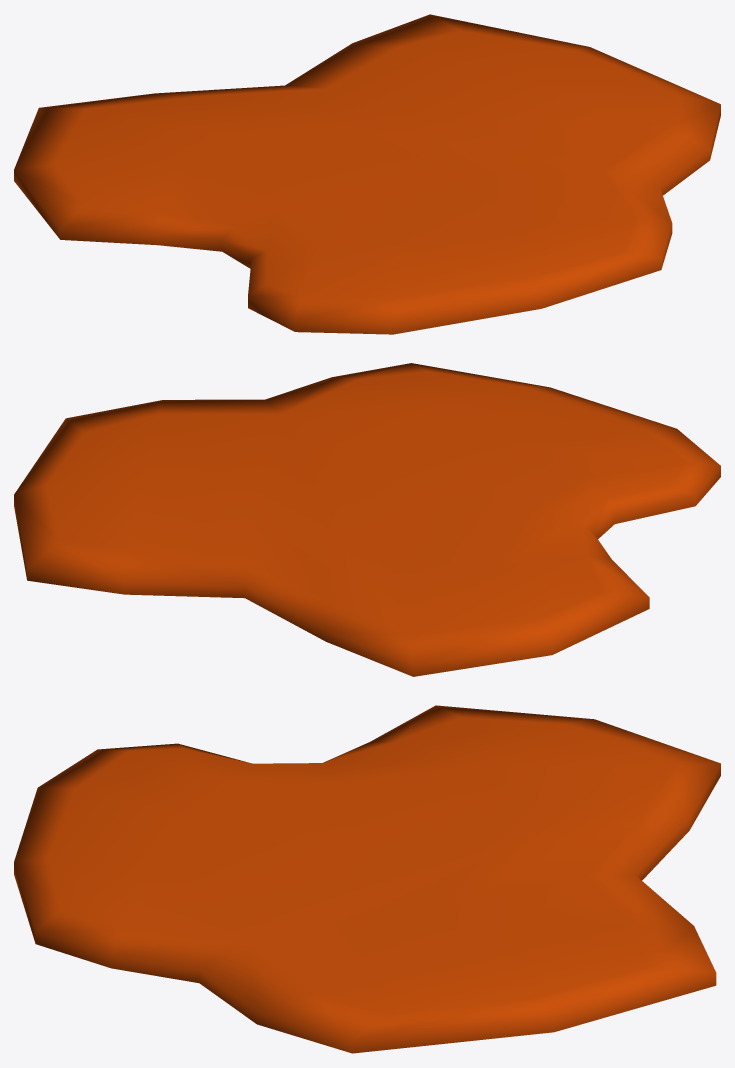
Rendered from Honey_Mesh.fbx.
3 views of the same model, one above another, from view 1: azimuth 30°, elevation 25°; view 2: azimuth 150°, elevation 25°; view 3: azimuth 270°, elevation 25° (orthographic). The views are drawn at different scales.
Visible parts, largest first — view 1: Box098; view 2: Box098; view 3: Box098.
Part boxes in pixels (box(x1,y1,x2,y2)): Box098: box(14, 14, 720, 334); Box098: box(14, 363, 720, 676); Box098: box(14, 705, 720, 1053).
Bounding box in the file's own units: 116 × 4 × 103.
